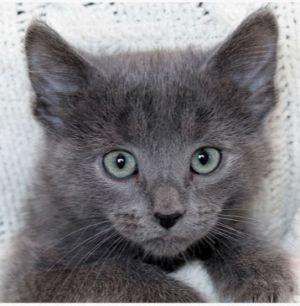rblue: (23, 13, 285, 271)
